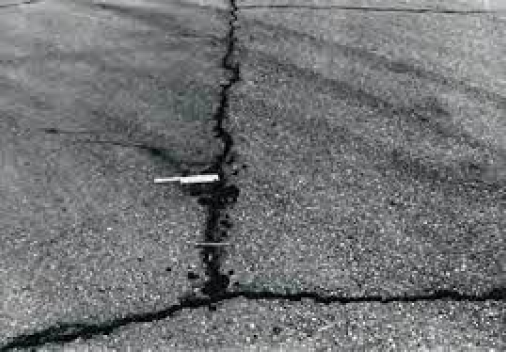Retak Melintang: (2, 1, 506, 352)
